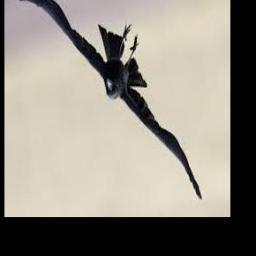Crow: (14, 0, 203, 202)
